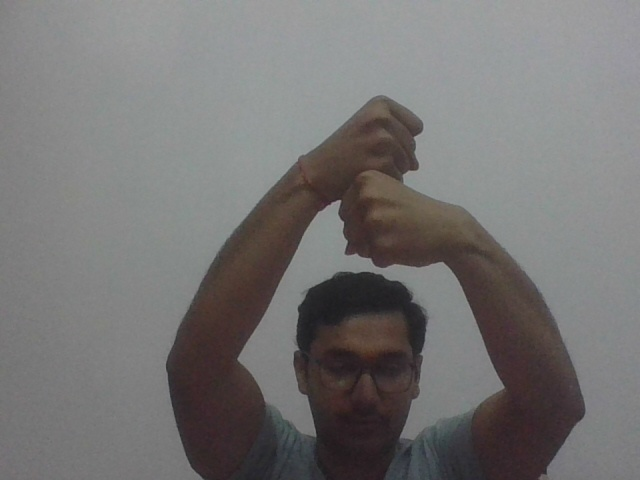G: (331, 83, 444, 273)
